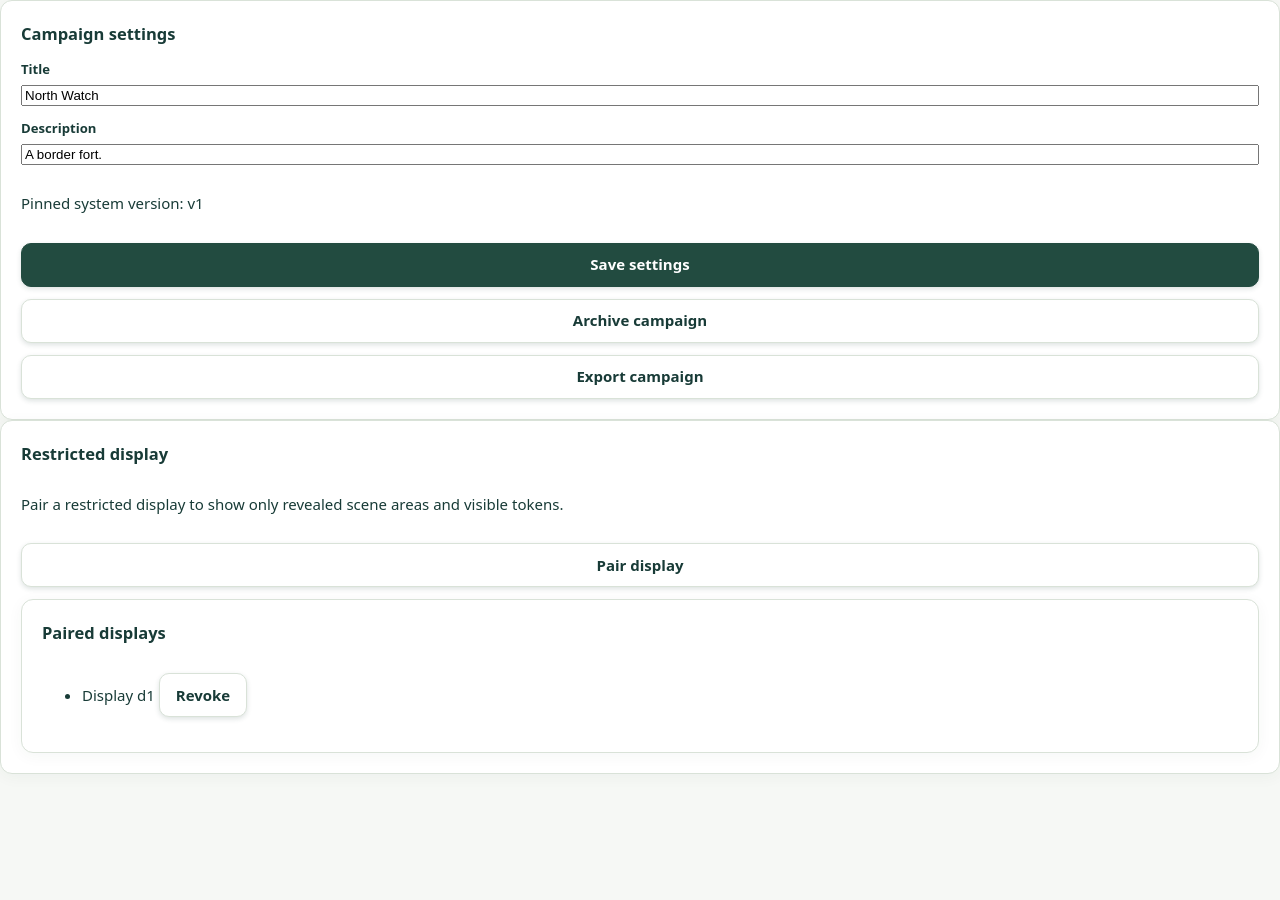
Test: CampaignSettingsView display pairing › shows the pair code once with credential list + revoke
The width and height of the screenshot is (1280, 900).
Check: the text "Display d1" is shown, box [82,685,155,705]
What coordinates should you click on to do the following:
click the button "Pair display"
I would click on:
 (640, 565)
Its box is [21,543,1259,587].
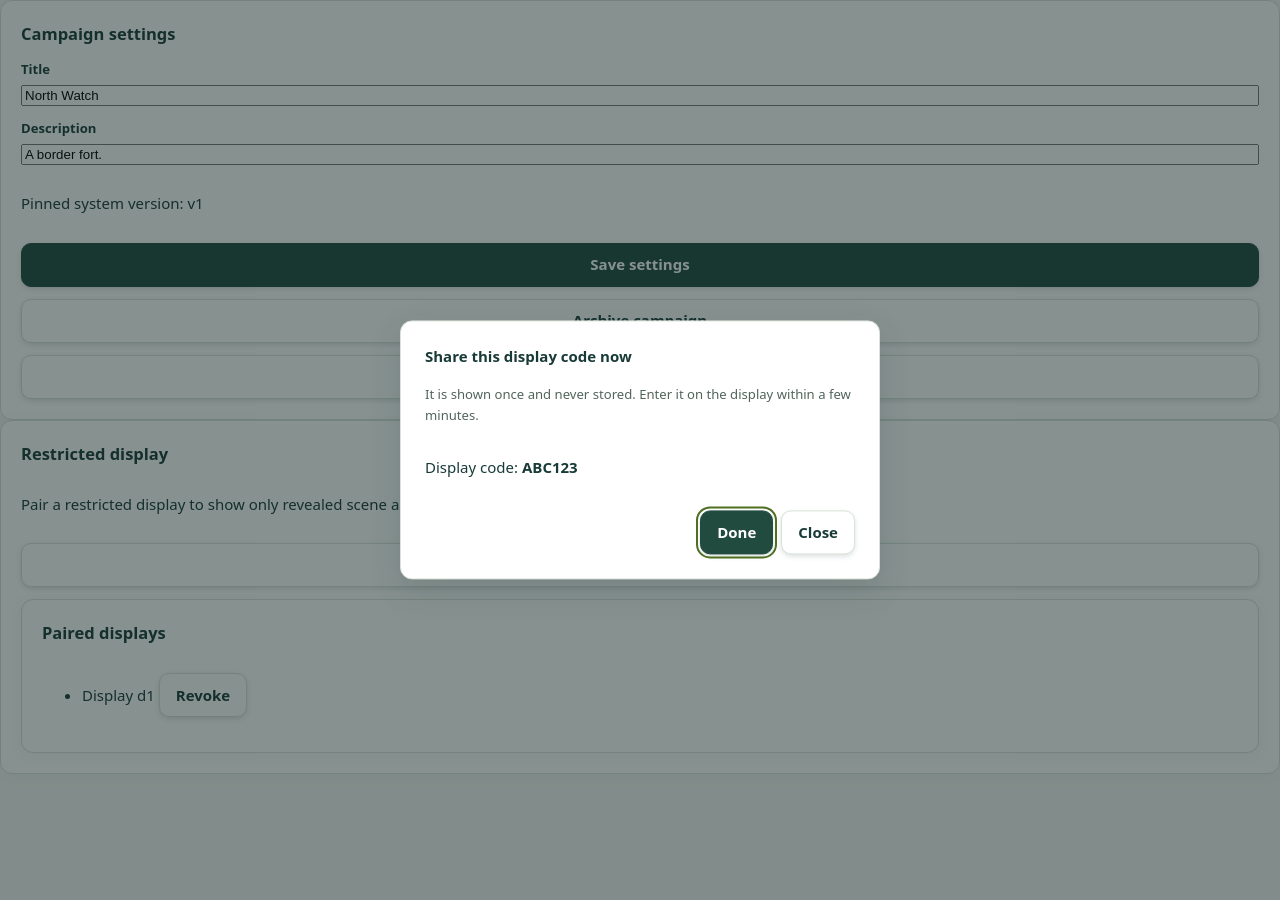
Check: the text "ABC123" is shown, box [522,457,578,477]
What coordinates should you click on to do the following:
click the button "Done"
I would click on:
 (737, 533)
Its box is [700,511,773,555].
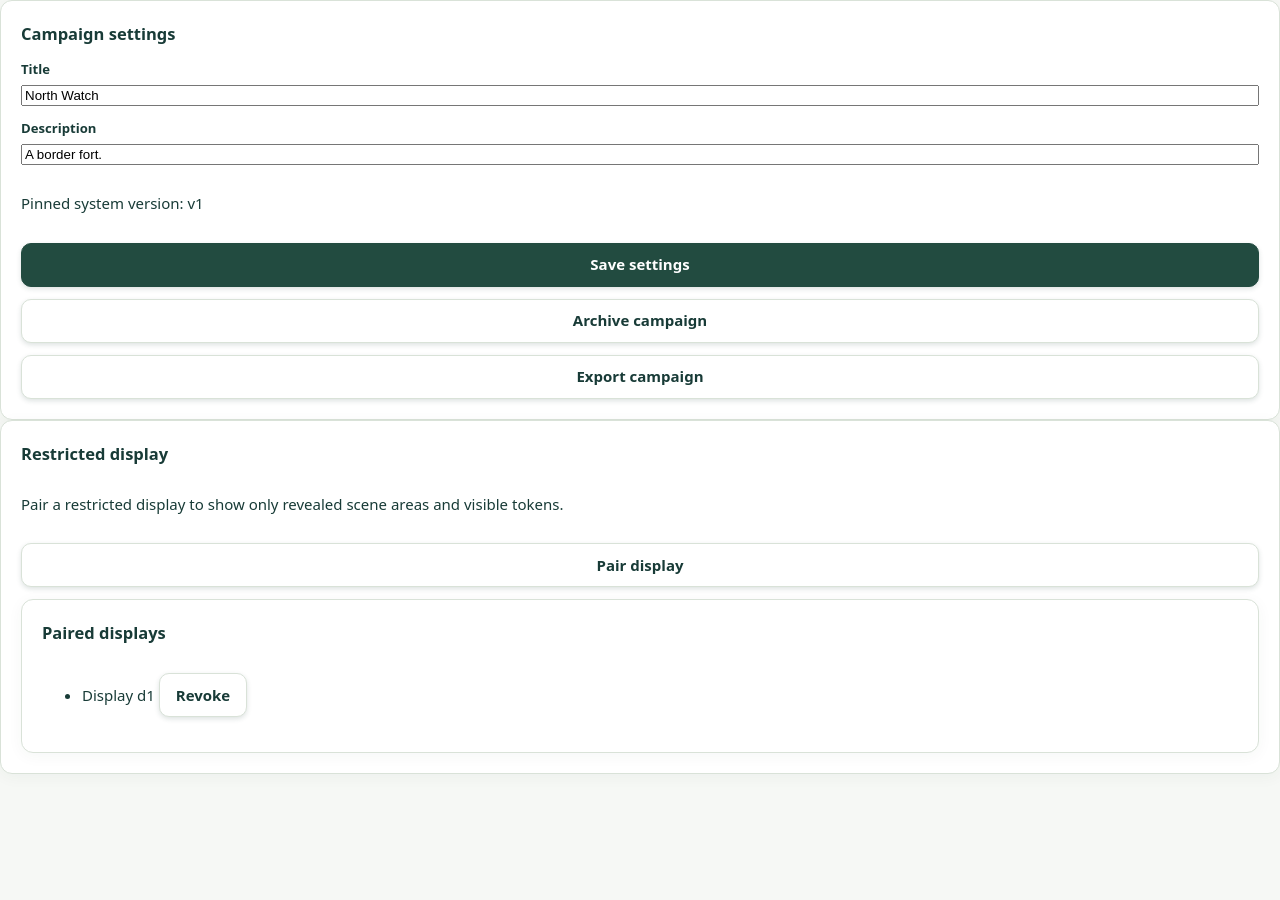
Check: the text "ABC123" is gone
What coordinates should you click on to do the following:
click the button "Revoke"
I would click on:
 (203, 695)
Its box is [159,673,247,717].
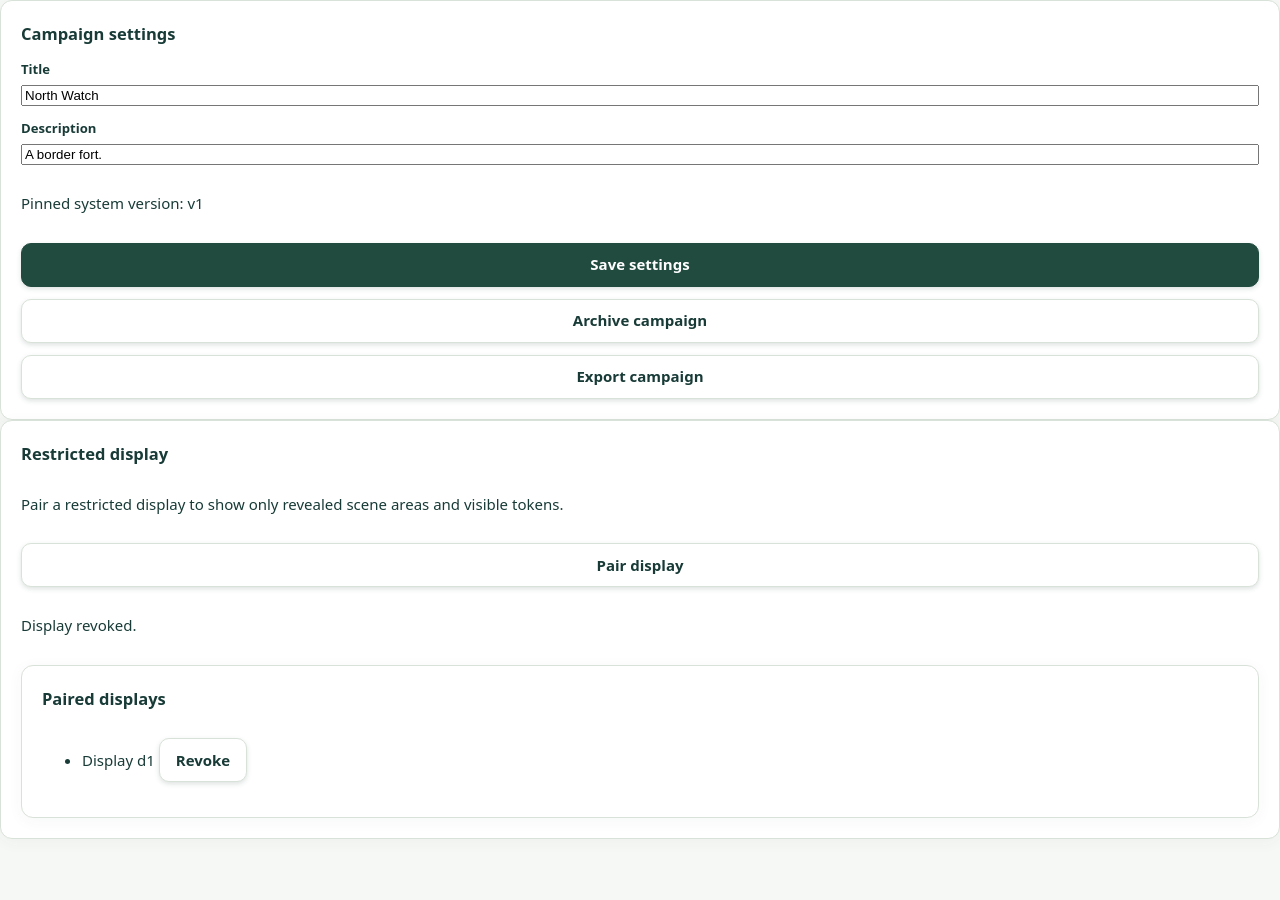
Check: the text "Display revoked." is shown, box [21,615,136,635]
